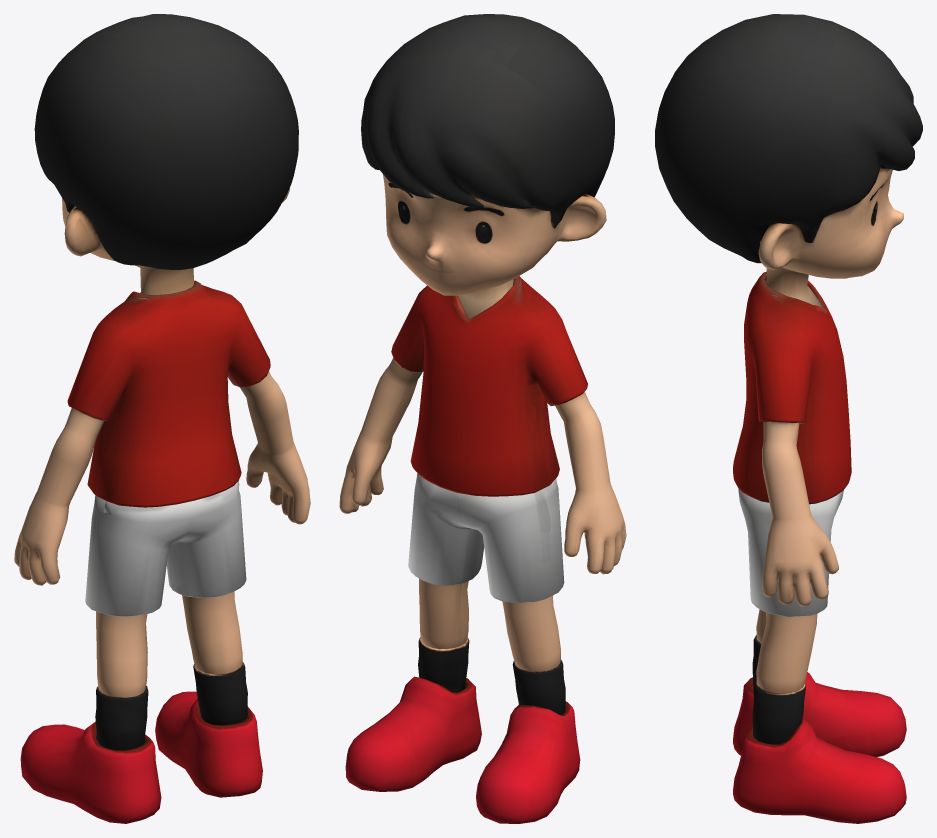
File: RedChar.fbx
The picture shows the model from 3 angles, left to right: view 1: azimuth 30°, elevation 25°; view 2: azimuth 150°, elevation 25°; view 3: azimuth 270°, elevation 25°; orthographic projection. The views are drawn at different scales.
Parts seen in each view (by area): view 1: RedCharacter; view 2: RedCharacter; view 3: RedCharacter.
Boxes of the visible parts, x1,y1,x2,y2 form: RedCharacter: [14, 14, 310, 823]; RedCharacter: [339, 14, 626, 823]; RedCharacter: [655, 14, 922, 823].
Bounding box in the file's own units: 0.4355 × 1.15 × 0.3714.
1 material, 1 textured.
